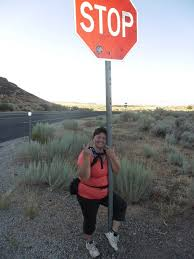Stop: (71, 3, 147, 67)
